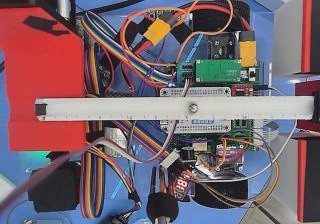ironball: (188, 102, 197, 112)
